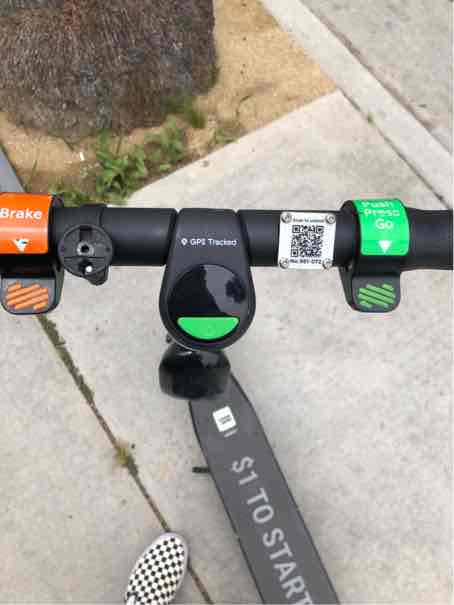scooter: (9, 33, 430, 605)
